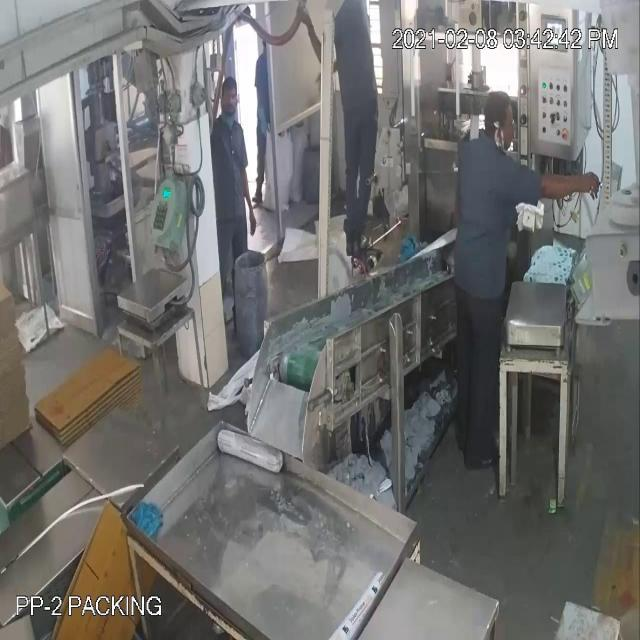No_Gloves: (536, 153, 608, 214)
